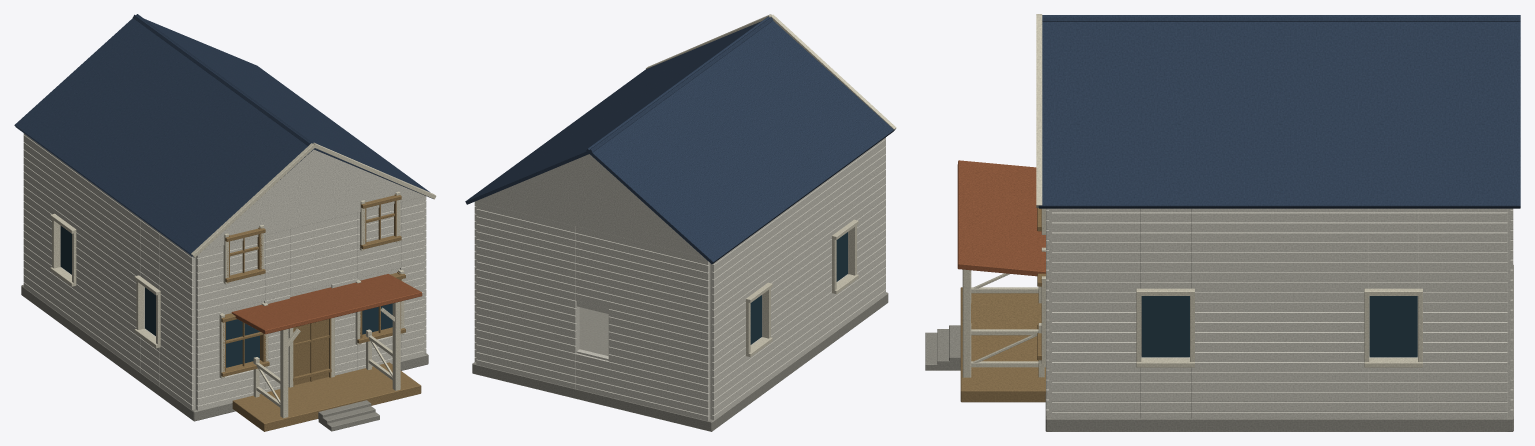
Rendered from HOUSEB2_lod1.glb.
3 renders of one model, left to right at view 1: azimuth 30°, elevation 25°; view 2: azimuth 150°, elevation 25°; view 3: azimuth 270°, elevation 25°, orthographic. The views are drawn at different scales.
Visible parts, largest first — view 1: HOUSEB2_LOD1; view 2: HOUSEB2_LOD1; view 3: HOUSEB2_LOD1.
Boxes of the visible parts, bbox=[...] form: HOUSEB2_LOD1: bbox=[14, 14, 436, 431]; HOUSEB2_LOD1: bbox=[465, 14, 896, 431]; HOUSEB2_LOD1: bbox=[925, 14, 1520, 431].
Bounding box in the file's own units: 7.51 × 7.41 × 11.76.
10 materials, 8 textured.
